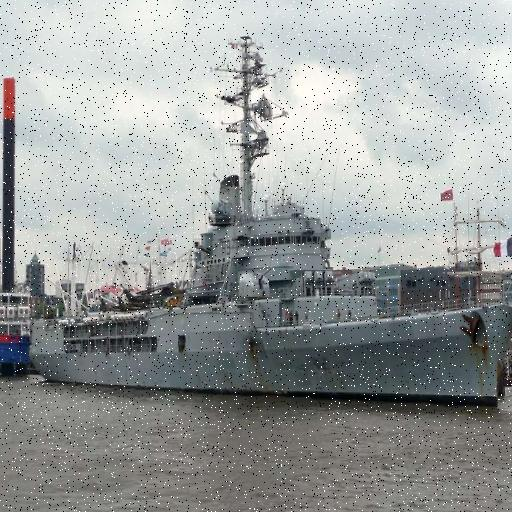Portanaves: (24, 29, 512, 413)
